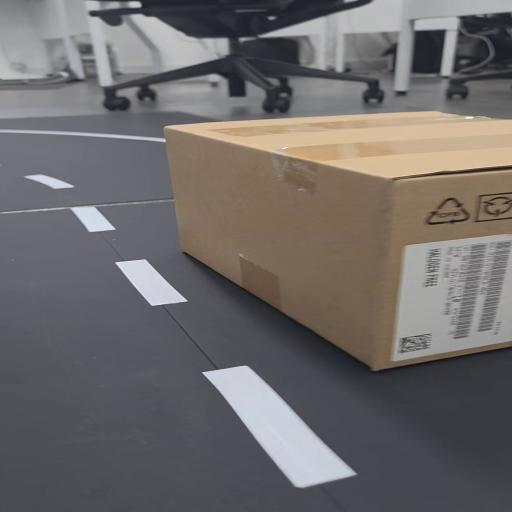Box: (167, 111, 512, 372)
